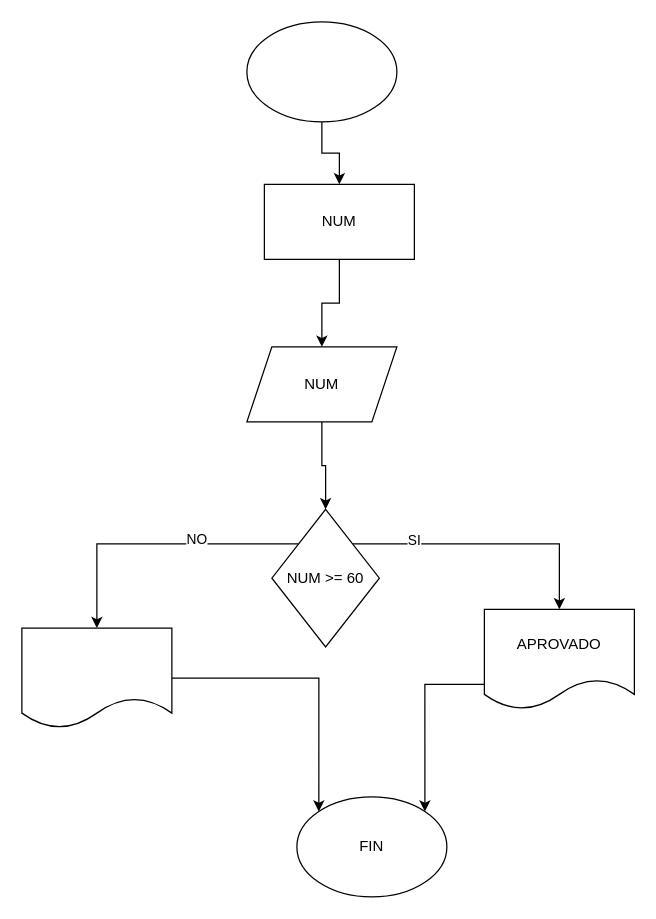
Image size: 656x919. Some labels were removed from this diagram. Each missing label, with the centre of its shape:
INICIO: pixel 321 71
REPROBADO: pixel 96 677
